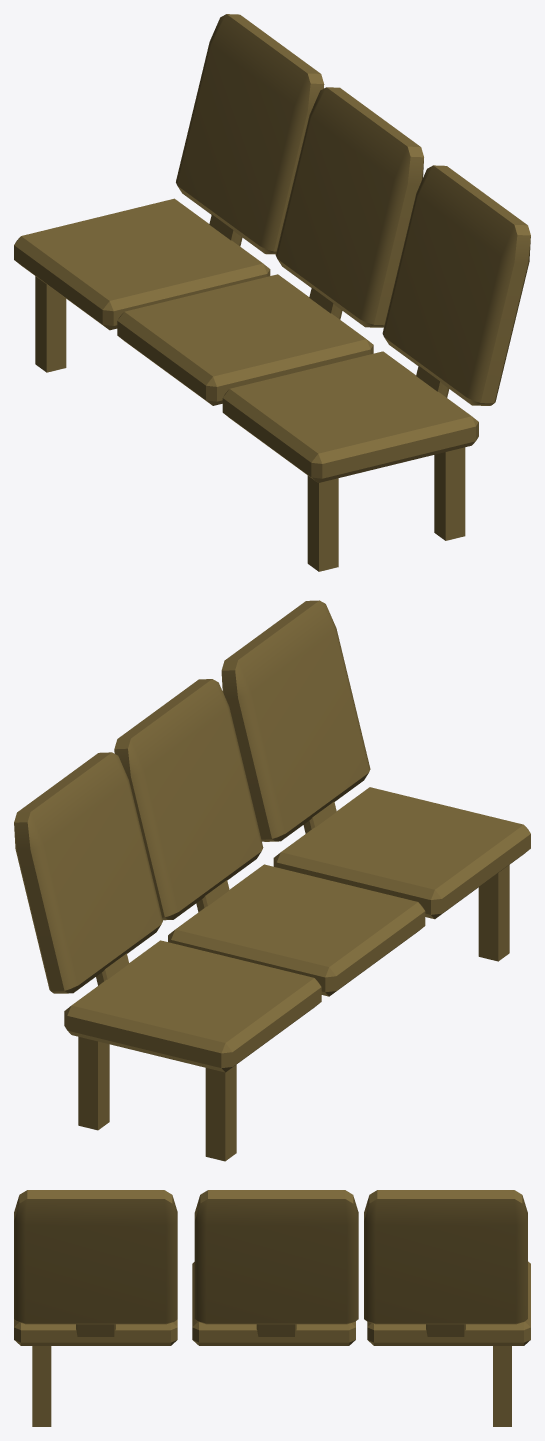
File: SM_SubwayChair.fbx
3 renders of one model, top to bottom at view 1: azimuth 30°, elevation 25°; view 2: azimuth 150°, elevation 25°; view 3: azimuth 270°, elevation 25°, orthographic. The views are drawn at different scales.
Parts seen in each view (by area): view 1: pCube498; view 2: pCube498; view 3: pCube498.
Part boxes in pixels (x1,y1,x2,y2): pCube498: (14,14,530,571); pCube498: (14,600,530,1161); pCube498: (14,1190,530,1426).
Bounding box in the file's own units: 259 × 340 × 622.
